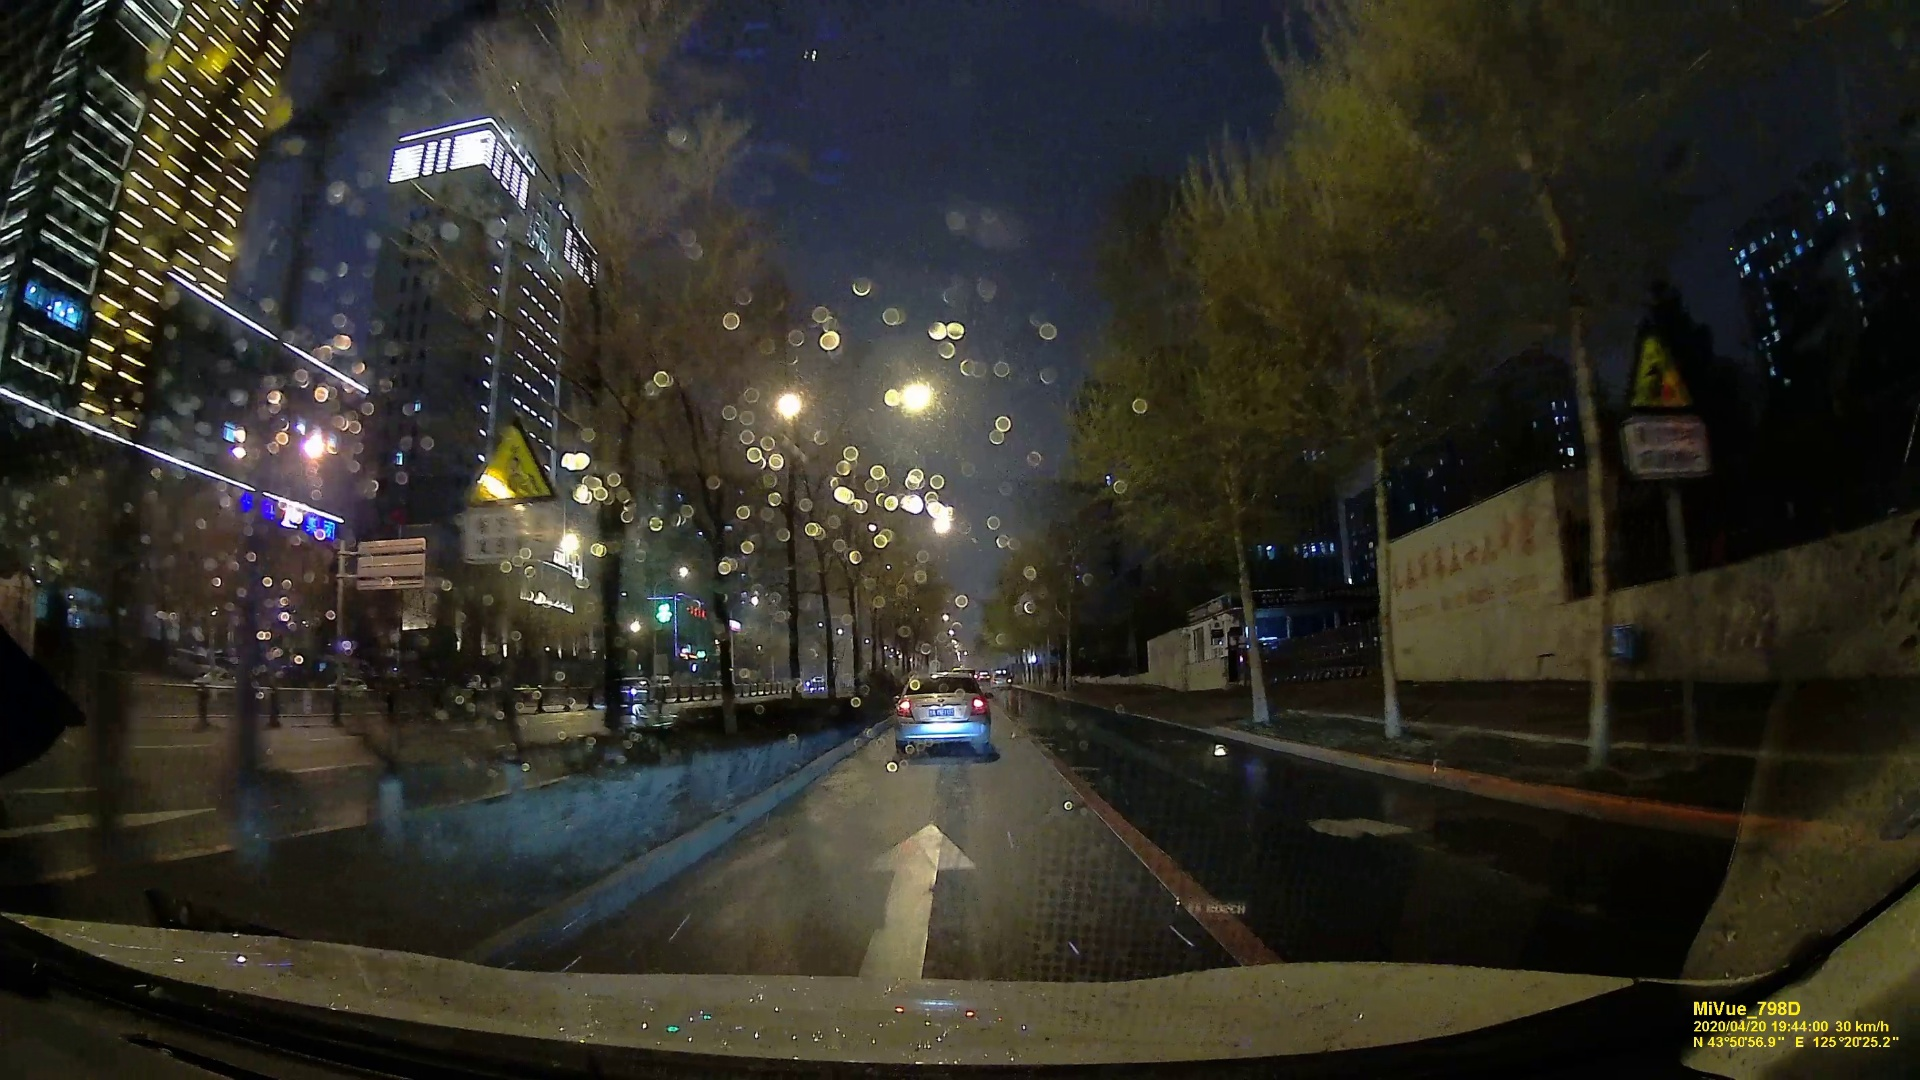traffic_sign: (456, 422, 566, 556), (1619, 330, 1708, 465)
vehicle: (895, 669, 997, 758)
